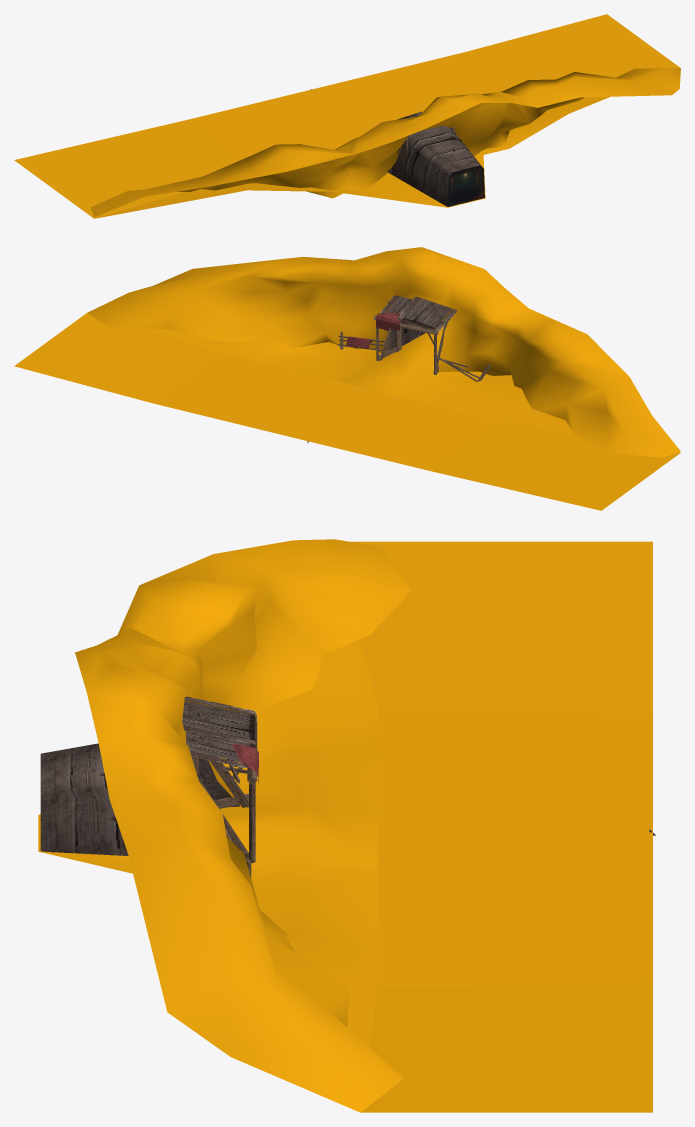
File: Map_P06_Desert_End.fbx
3 renders of one model, top to bottom at view 1: azimuth 30°, elevation 25°; view 2: azimuth 150°, elevation 25°; view 3: azimuth 270°, elevation 25°, orthographic. The views are drawn at different scales.
Parts seen in each view (by area): view 1: Terrain_P06_Mountain, Trans_Ham_P06, Anhcuoimap_P06; view 2: Terrain_P06_Mountain, Assets_MaiEnd_P06, Assets_GianEnd_P06, Trans_Ham_P06, Assets_Vai1End_P06; view 3: Terrain_P06_Mountain, Trans_Ham_P06, Assets_MaiEnd_P06, Assets_GianEnd_P06.
Boxes of the visible parts, x1,y1,x2,y2 form: Terrain_P06_Mountain: [14, 14, 680, 218]; Trans_Ham_P06: [389, 125, 482, 206]; Anhcuoimap_P06: [447, 165, 484, 206]; Terrain_P06_Mountain: [14, 247, 680, 510]; Assets_MaiEnd_P06: [380, 295, 457, 332]; Assets_GianEnd_P06: [337, 315, 490, 381]; Trans_Ham_P06: [386, 321, 440, 350]; Assets_Vai1End_P06: [376, 312, 403, 330]; Terrain_P06_Mountain: [38, 539, 652, 1112]; Trans_Ham_P06: [40, 743, 239, 855]; Assets_MaiEnd_P06: [182, 696, 256, 771]; Assets_GianEnd_P06: [192, 717, 257, 877].
Size of the model in its own units: 4771 by 698 by 2175.
